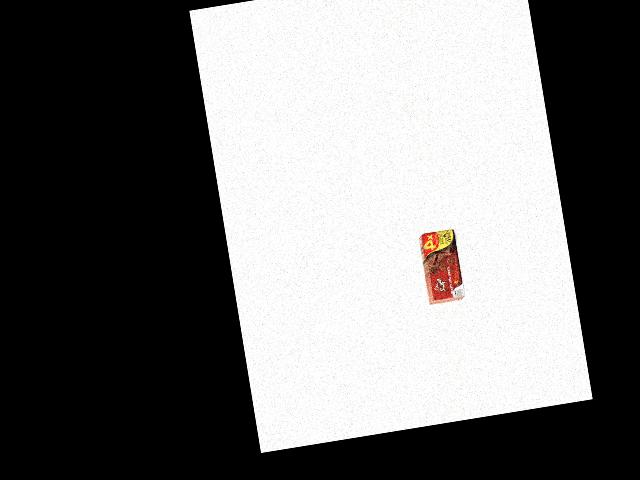chocolate: (418, 227, 467, 303)
